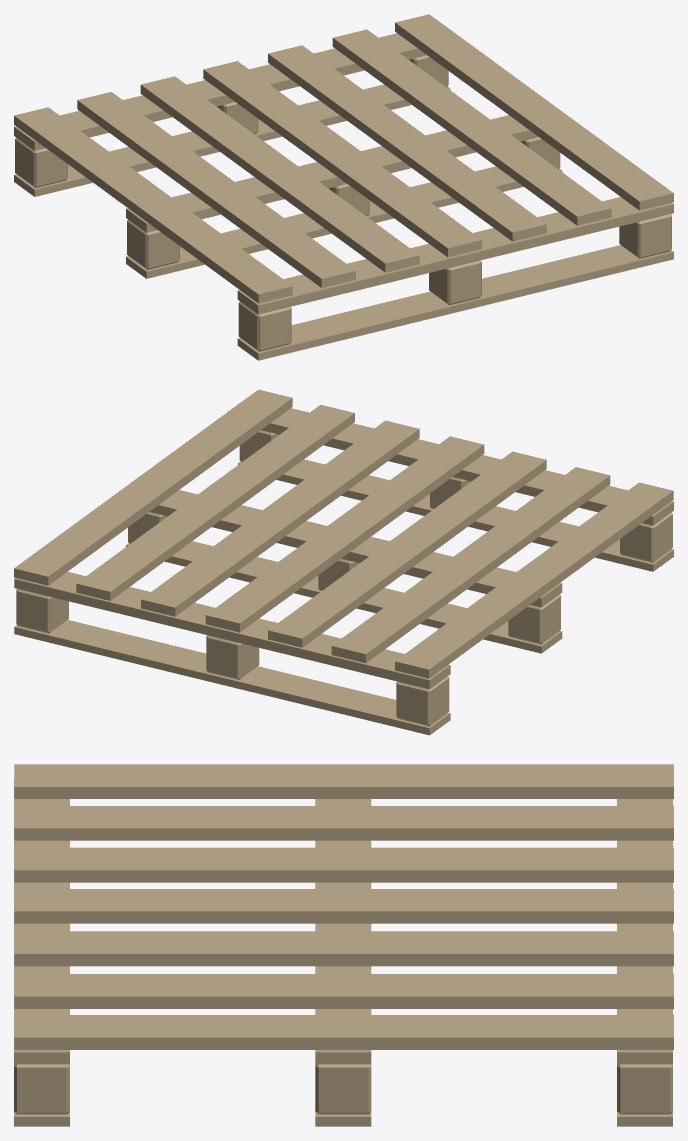
The model's file is SM_Pallet_01.fbx.
3 renders of one model, top to bottom at view 1: azimuth 30°, elevation 25°; view 2: azimuth 150°, elevation 25°; view 3: azimuth 270°, elevation 25°, orthographic. The views are drawn at different scales.
Parts seen in each view (by area): view 1: SM_Pallet_01; view 2: SM_Pallet_01; view 3: SM_Pallet_01.
Part boxes in pixels (x1,y1,x2,y2): SM_Pallet_01: (14,14,673,360); SM_Pallet_01: (14,389,673,735); SM_Pallet_01: (14,764,673,1126).
Bounding box in the file's own units: 116 × 17.56 × 118.
